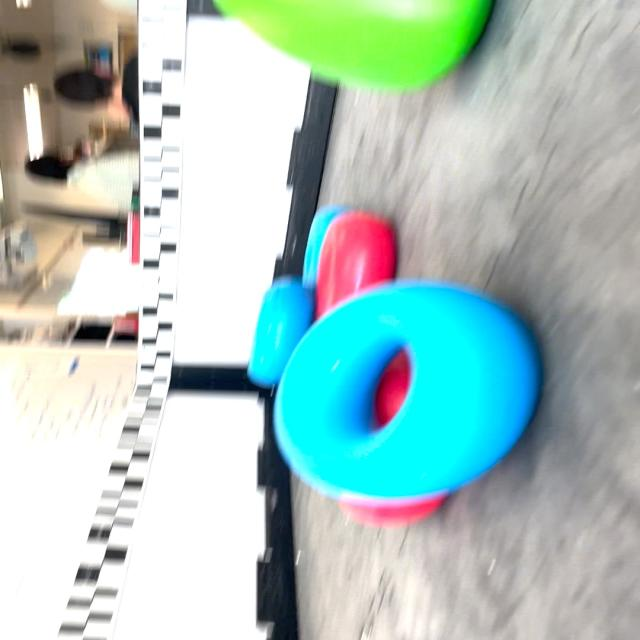Blue-Ring: (276, 280, 540, 500), (247, 276, 313, 388)
Red-Ring: (316, 210, 396, 317)
